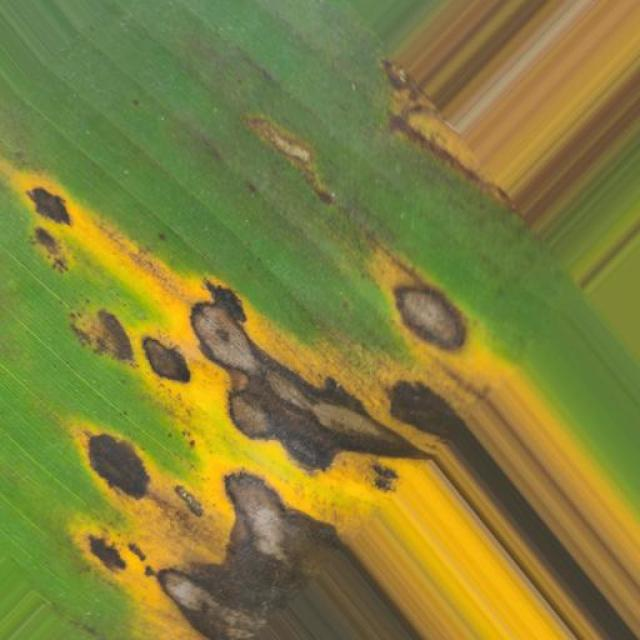Early_rust: (0, 103, 490, 640)
